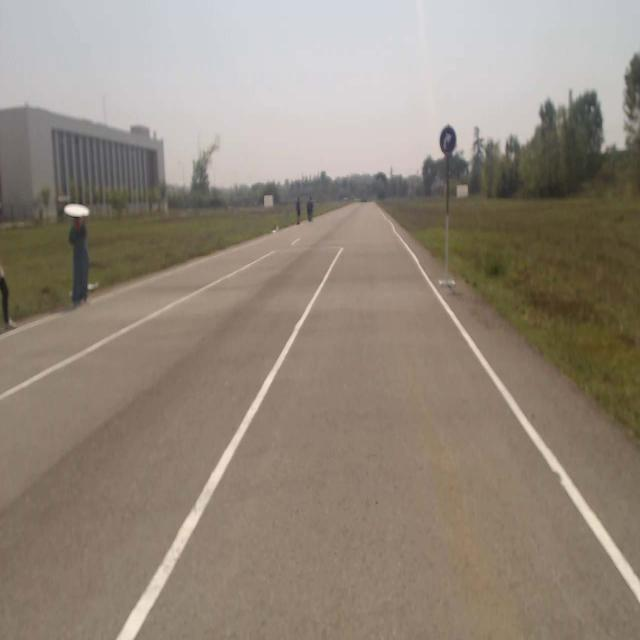sag: (441, 126, 455, 156)
